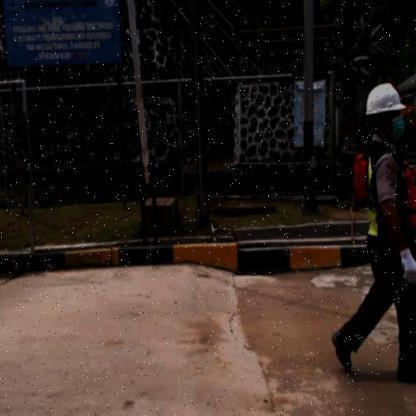boots: (329, 322, 356, 372)
gloves: (398, 247, 416, 289)
helmet: (364, 82, 408, 115)
mask: (388, 118, 406, 140)
vest: (348, 150, 416, 232)
